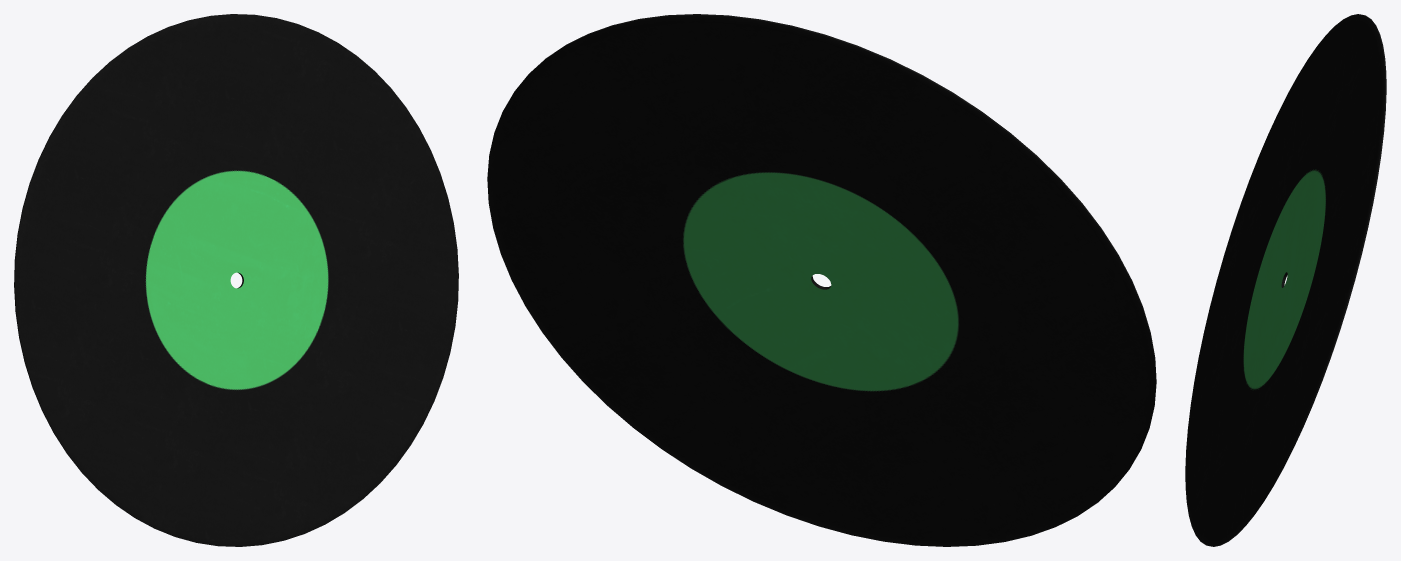
3 renders of one model, left to right at view 1: azimuth 30°, elevation 25°; view 2: azimuth 150°, elevation 25°; view 3: azimuth 270°, elevation 25°, orthographic. The views are drawn at different scales.
Parts seen in each view (by area): view 1: VinylRecord3; view 2: VinylRecord3; view 3: VinylRecord3.
Part boxes in pixels (x1=…): VinylRecord3: x1=14, y1=14, x2=458, y2=546; VinylRecord3: x1=487, y1=14, x2=1156, y2=546; VinylRecord3: x1=1185, y1=14, x2=1386, y2=546.
Size of the model in its own units: 0.2481 by 0.2339 by 0.0907.
Materials: 1 (1 with a texture image).
